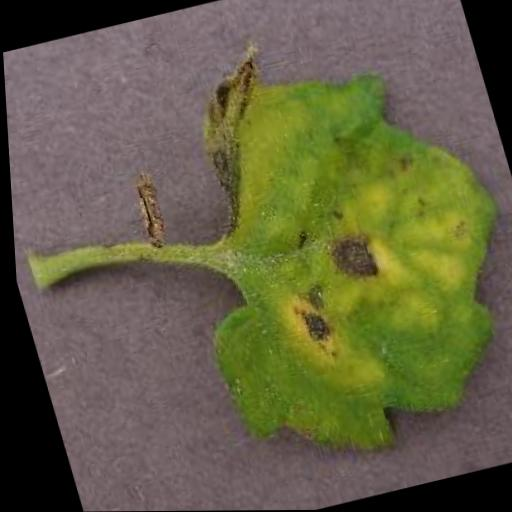Septoria: (123, 15, 512, 485)
